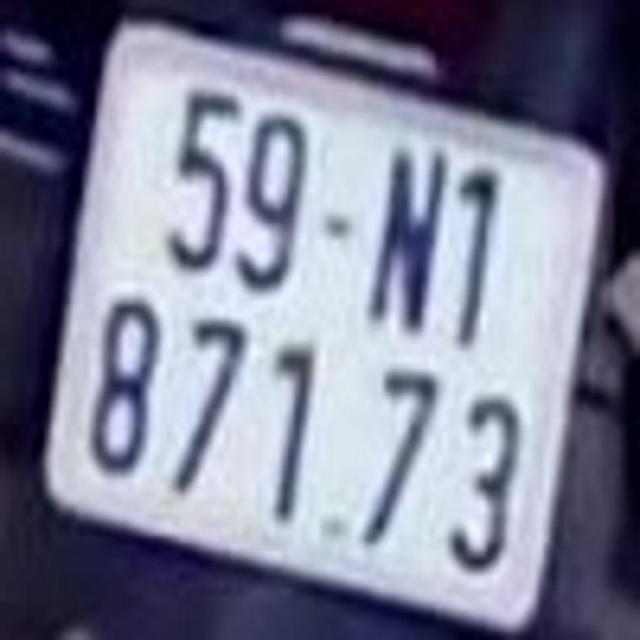1: (268, 341, 312, 524), (456, 165, 498, 348)
3: (443, 388, 513, 580)
5: (164, 81, 234, 272)
7: (354, 367, 442, 562), (170, 310, 250, 500)
8: (92, 290, 154, 472)
9: (240, 104, 306, 301)
N: (364, 136, 448, 338)
